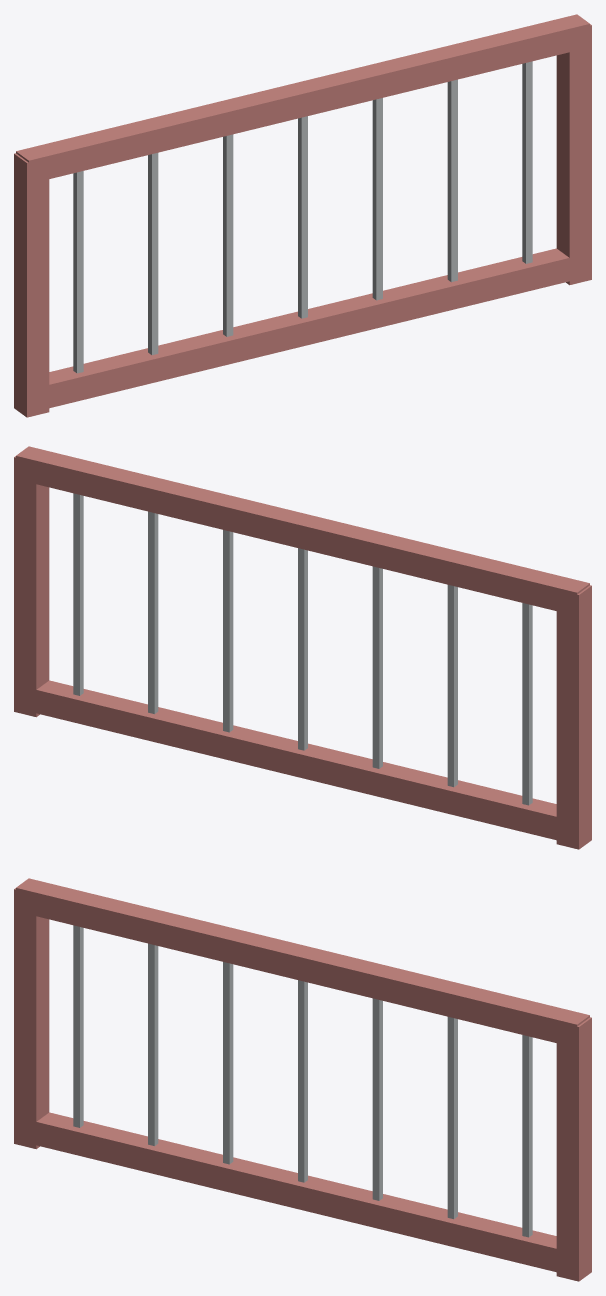
File: guard_lod1.glb
3 renders of one model, top to bottom at view 1: azimuth 30°, elevation 25°; view 2: azimuth 150°, elevation 25°; view 3: azimuth 330°, elevation 25°, orthographic.
Parts seen in each view (by area): view 1: frame_top, frame_bottom, left, right, bar-0.8, bar-0.4, bar1.2, bar-1.2, bar0.7999999999999998, bar0.3999999999999999, bar0.0; view 2: frame_top, frame_bottom, left, right, bar-0.8, bar-0.4, bar1.2, bar-1.2, bar0.7999999999999998, bar0.3999999999999999, bar0.0; view 3: frame_top, frame_bottom, right, left, bar-1.2, bar0.3999999999999999, bar0.7999999999999998, bar-0.8, bar1.2, bar-0.4, bar0.0.
Part boxes in pixels (x1=…): frame_top: x1=16, y1=14, x2=589, y2=183; frame_bottom: x1=29, y1=248, x2=589, y2=412; left: x1=14, y1=153, x2=49, y2=417; right: x1=556, y1=24, x2=591, y2=285; bar-0.8: x1=148, y1=153, x2=158, y2=355; bar-0.4: x1=223, y1=134, x2=233, y2=336; bar1.2: x1=522, y1=61, x2=532, y2=263; bar-1.2: x1=73, y1=171, x2=83, y2=373; bar0.7999999999999998: x1=447, y1=79, x2=457, y2=282; bar0.3999999999999999: x1=372, y1=98, x2=382, y2=300; bar0.0: x1=298, y1=116, x2=307, y2=318; frame_top: x1=16, y1=446, x2=589, y2=615; frame_bottom: x1=16, y1=680, x2=576, y2=844; left: x1=556, y1=585, x2=591, y2=849; right: x1=14, y1=456, x2=49, y2=717; bar-0.8: x1=447, y1=585, x2=457, y2=787; bar-0.4: x1=372, y1=566, x2=382, y2=768; bar1.2: x1=73, y1=493, x2=83, y2=695; bar-1.2: x1=522, y1=603, x2=532, y2=805; bar0.7999999999999998: x1=148, y1=511, x2=158, y2=714; bar0.3999999999999999: x1=223, y1=530, x2=233, y2=732; bar0.0: x1=298, y1=548, x2=307, y2=750; frame_top: x1=16, y1=878, x2=589, y2=1047; frame_bottom: x1=16, y1=1112, x2=576, y2=1276; right: x1=556, y1=1017, x2=591, y2=1281; left: x1=14, y1=888, x2=49, y2=1149; bar-1.2: x1=73, y1=925, x2=83, y2=1127; bar0.3999999999999999: x1=372, y1=998, x2=382, y2=1200; bar0.7999999999999998: x1=447, y1=1017, x2=457, y2=1219; bar-0.8: x1=148, y1=943, x2=158, y2=1146; bar1.2: x1=522, y1=1035, x2=532, y2=1237; bar-0.4: x1=223, y1=962, x2=233, y2=1164; bar0.0: x1=298, y1=980, x2=307, y2=1182.
Bounding box in the file's own units: 3.02 × 1.31 × 0.12.
